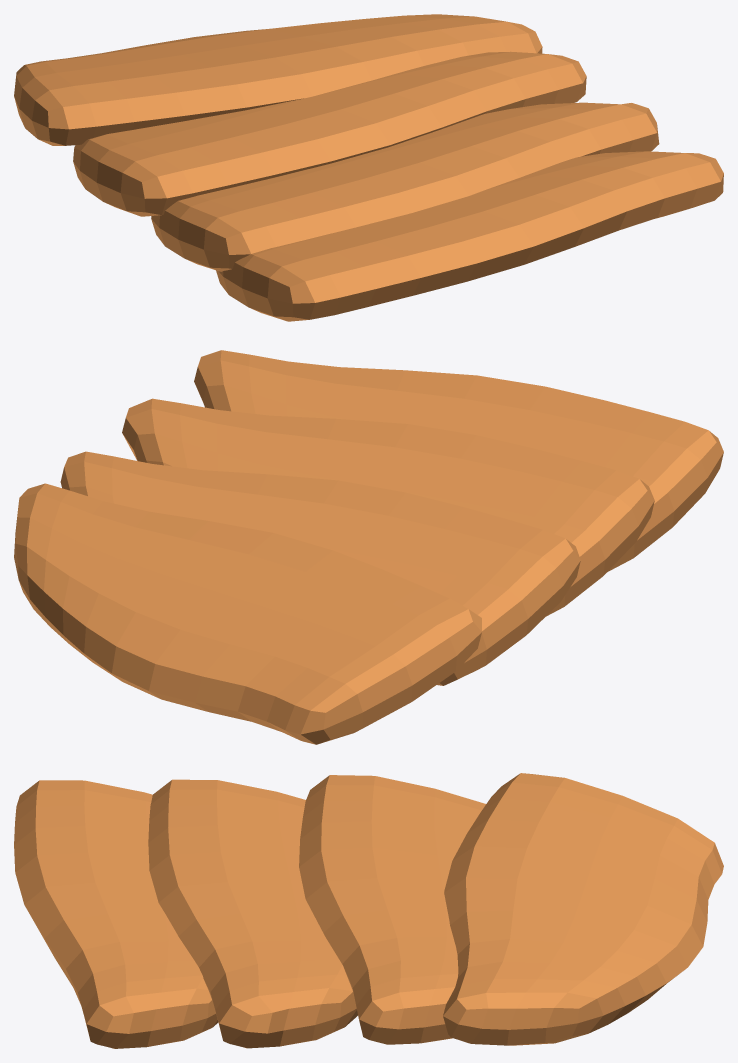
3 renders of one model, top to bottom at view 1: azimuth 30°, elevation 25°; view 2: azimuth 150°, elevation 25°; view 3: azimuth 270°, elevation 25°, orthographic. The views are drawn at different scales.
Visible parts, largest first — view 1: choppedsalmonorigin; view 2: choppedsalmonorigin; view 3: choppedsalmonorigin.
Boxes of the visible parts, x1,y1,x2,y2 form: choppedsalmonorigin: (14,14,723,321); choppedsalmonorigin: (14,350,723,744); choppedsalmonorigin: (14,773,723,1048).
Size of the model in its own units: 1.57 by 0.2707 by 1.99.
